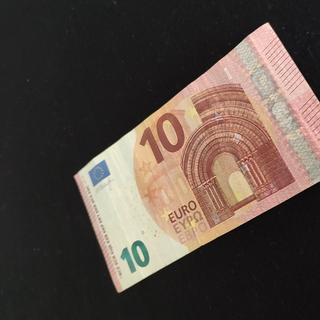10EUROFront: (72, 21, 320, 293)
